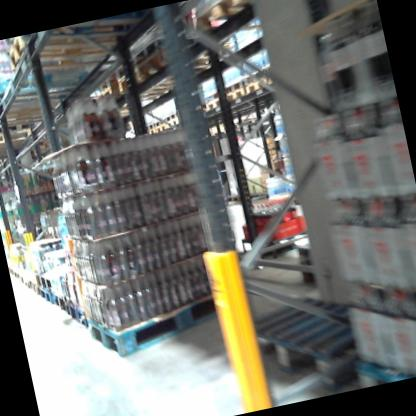pallet: (241, 271, 397, 404), (84, 258, 258, 368), (6, 13, 138, 88), (130, 32, 241, 94), (0, 61, 102, 118), (188, 0, 296, 47), (114, 57, 205, 106), (0, 83, 81, 130), (0, 119, 40, 154), (34, 263, 76, 291), (76, 301, 99, 338), (240, 74, 271, 98), (64, 293, 85, 327), (222, 83, 250, 106), (53, 291, 74, 320), (201, 92, 226, 113), (36, 282, 56, 304), (163, 112, 184, 131), (154, 121, 166, 134)
